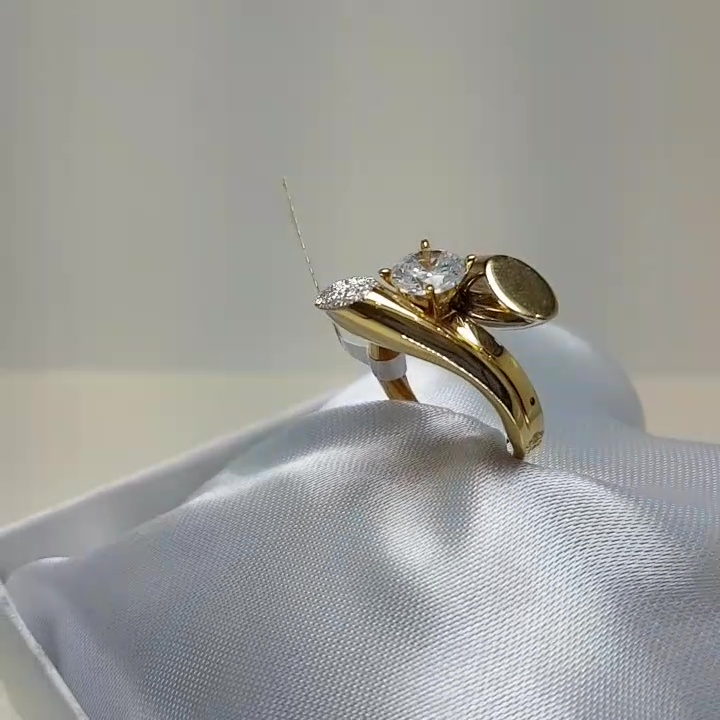Ring 7: (308, 232, 579, 475)
